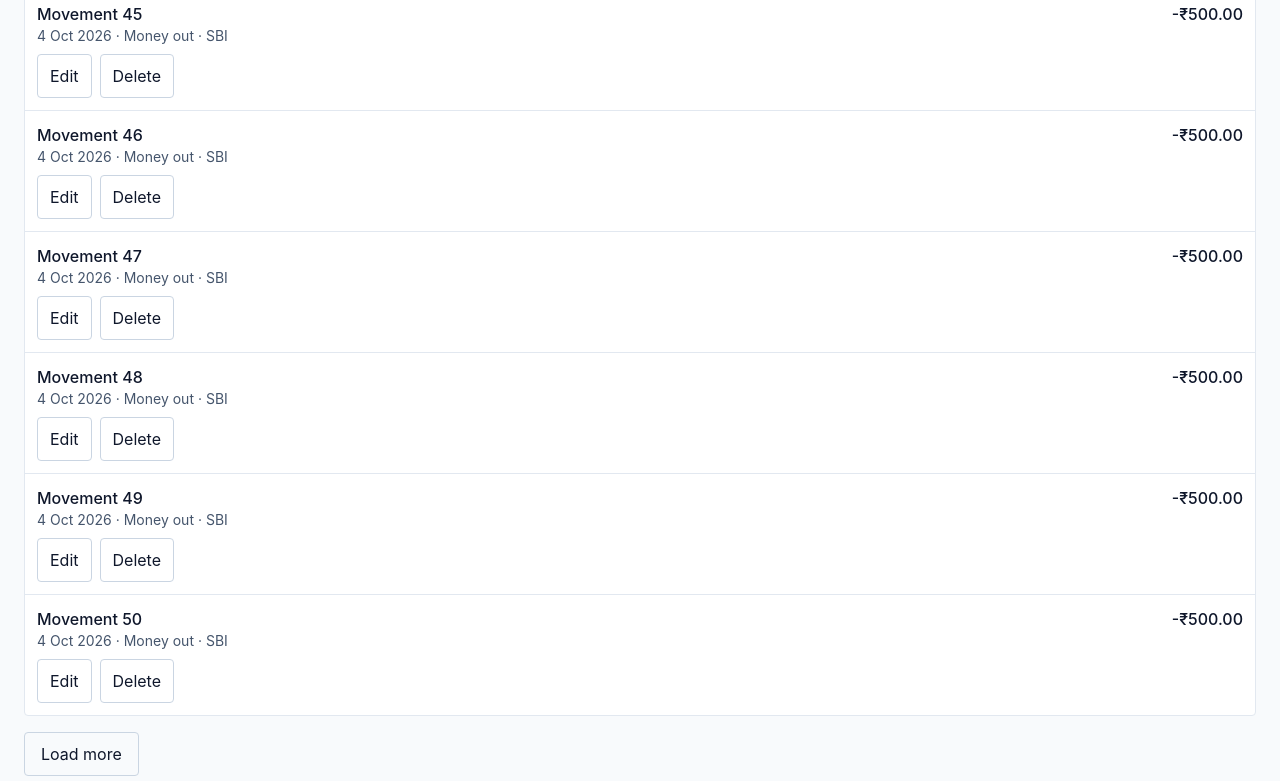
Scenario: TransactionsPage › asks for the next page only when there is one
(page scrolled)
Expected: the text "No description" is not shown
What coordinates should you click on to do the following:
click the button "Load more"
I would click on:
 (81, 754)
Its box is [24,732,139,776].
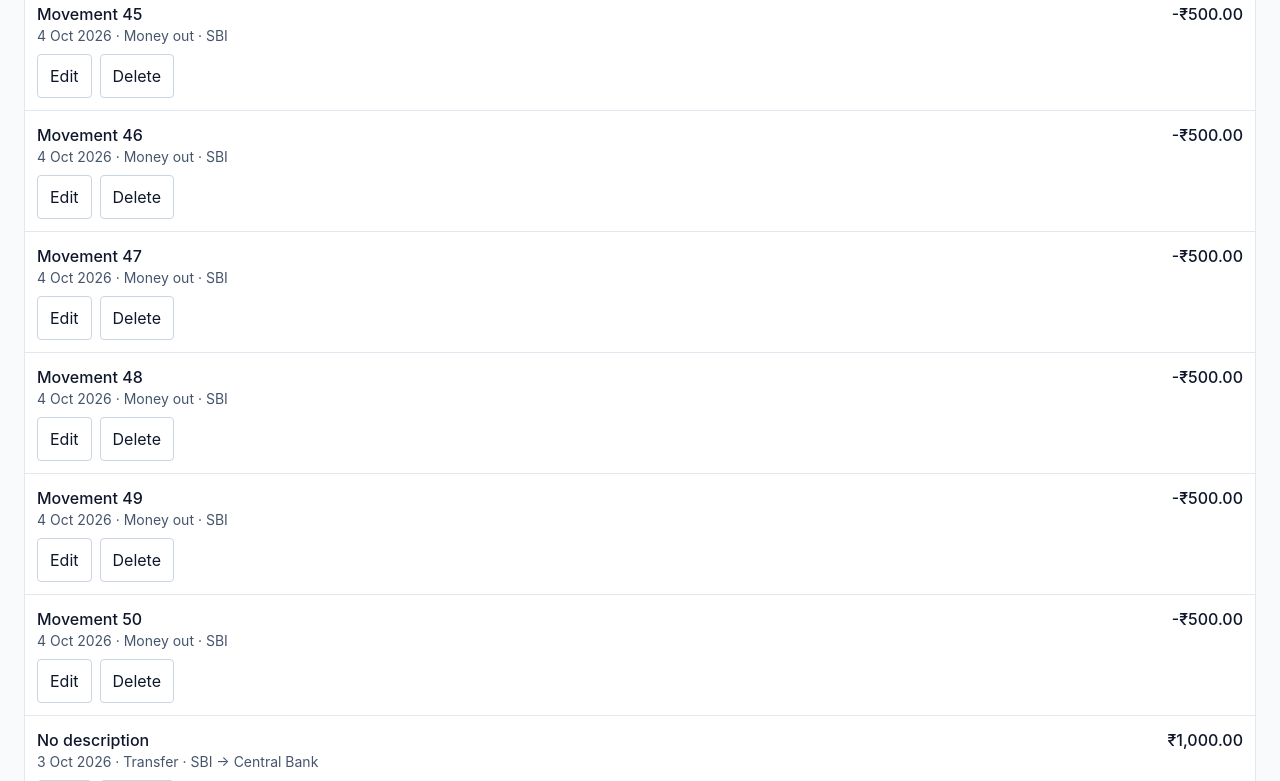
Expected: the text "No description" is shown, [37,730,149,750]
Expected: the button "Load more" is gone
